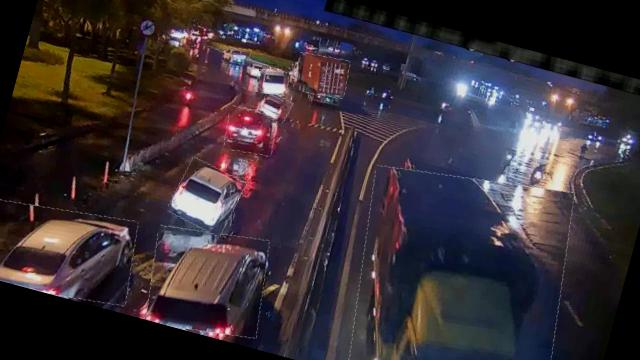Bike: (528, 160, 548, 188)
Bus: (253, 66, 290, 98)
Car: (137, 216, 277, 346), (0, 189, 143, 312), (166, 157, 246, 237), (220, 102, 280, 158), (256, 90, 292, 123), (224, 45, 252, 66), (242, 60, 268, 80)
Truck: (327, 148, 591, 360), (291, 48, 352, 100)
